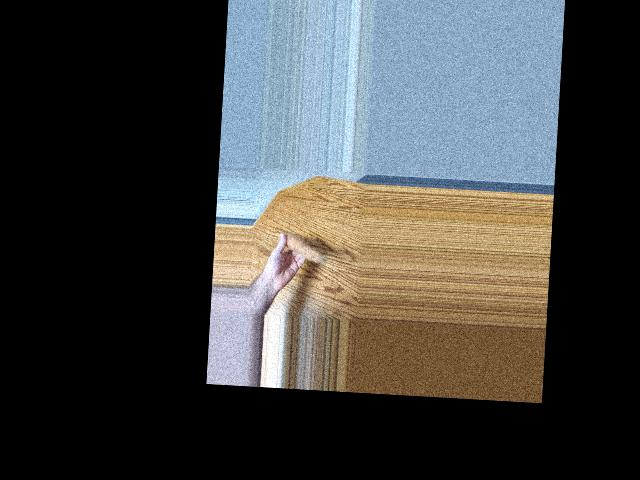sweet_potato: (275, 231, 329, 268)
